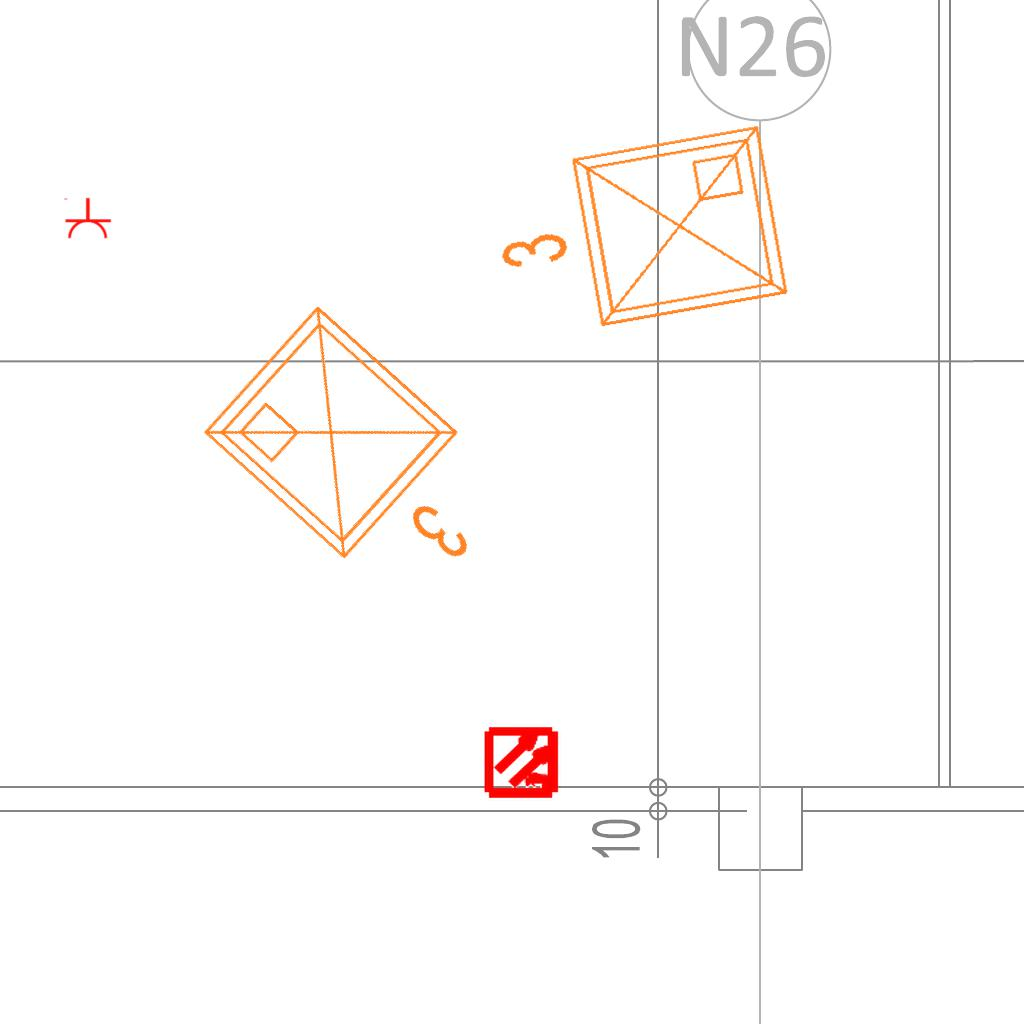Einbaudownlights_LED_Konferenzraeume: (182, 279, 546, 635), (474, 108, 806, 366)
OT_Multisensormelder_(Kombination_RMO_WMD): (467, 706, 580, 819)
Schukosteckdose_einfach: (62, 197, 112, 240)
